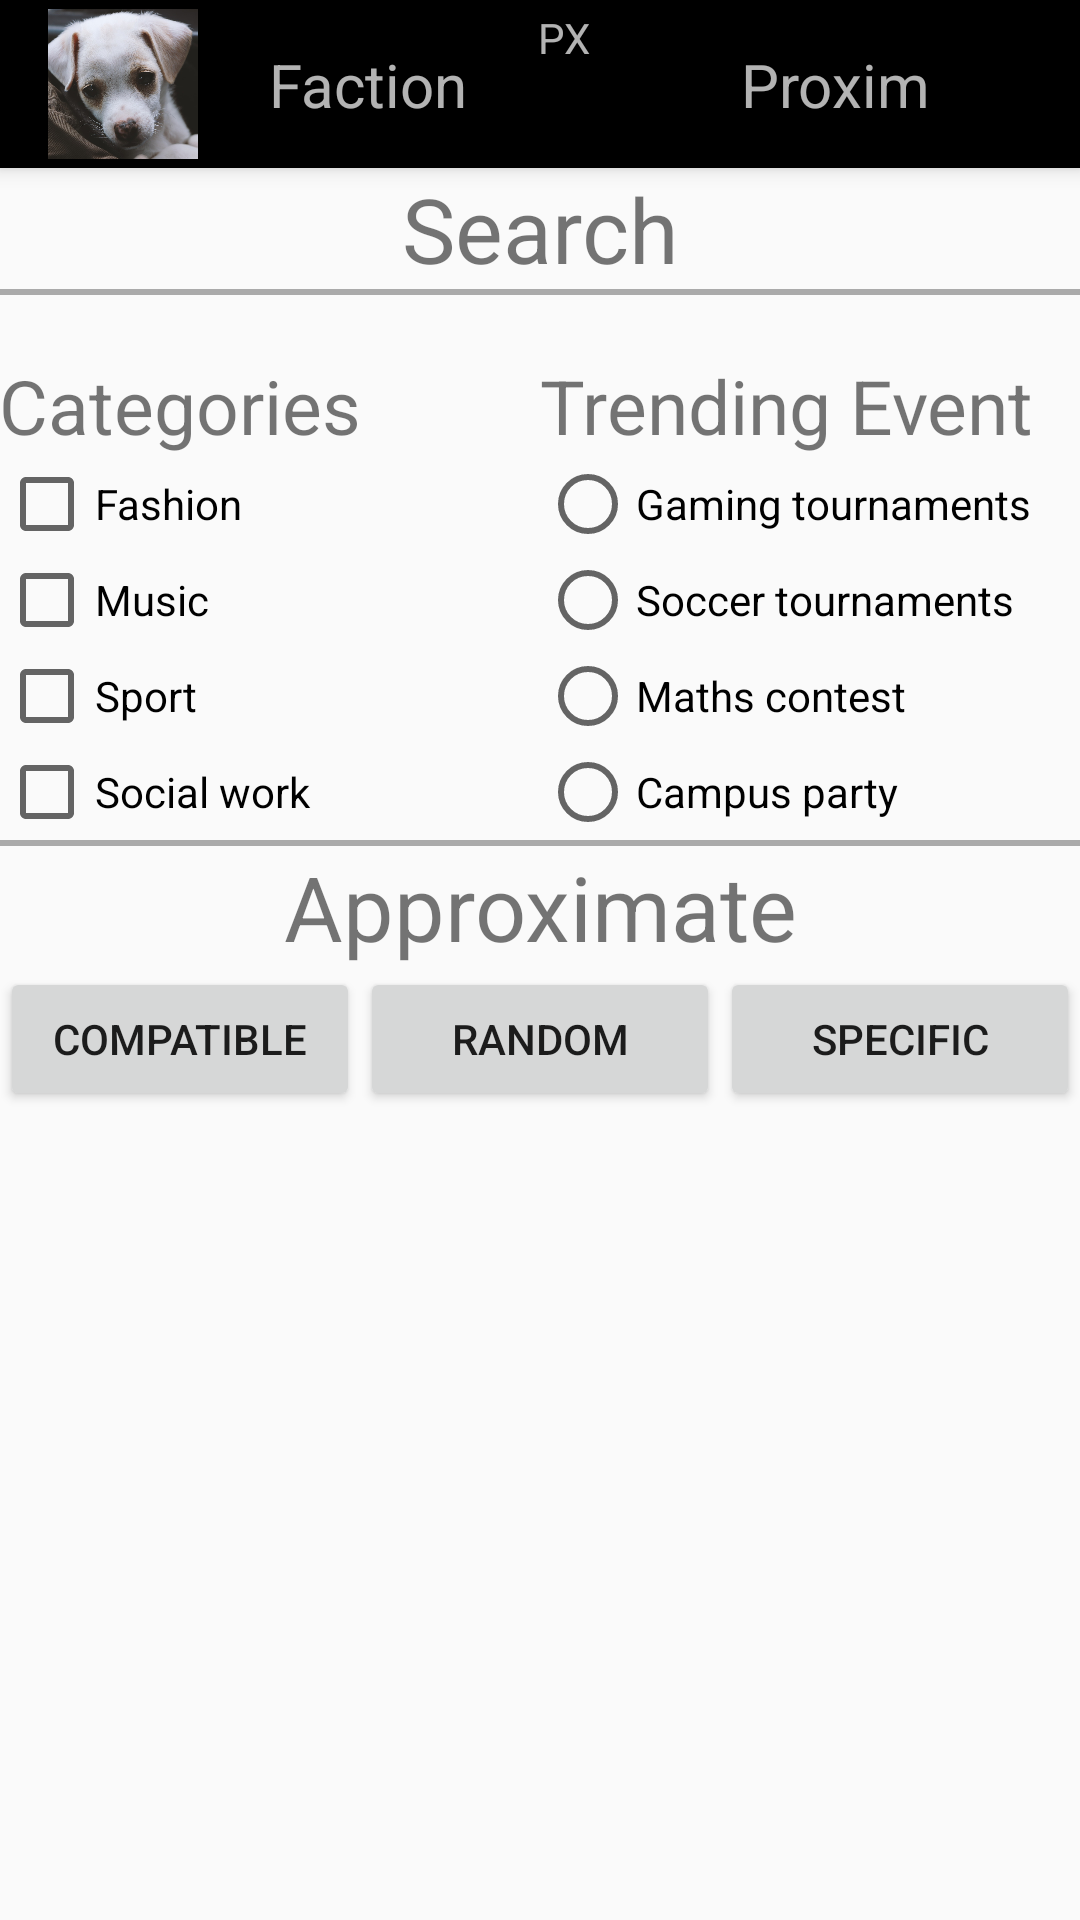

Locate icon controls on the screen. Image size 1080px×1920px, boxes as Rect(x1, y1, x2, y2).
pexels photo: Rect(48, 9, 198, 159)
